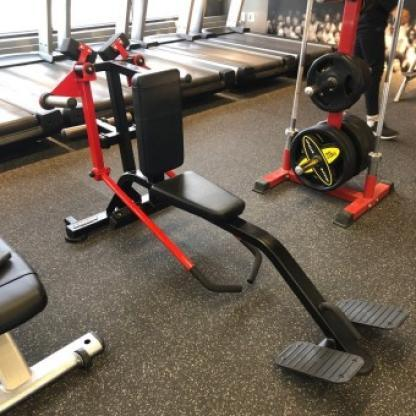lateral raises machine: (43, 33, 416, 335)
